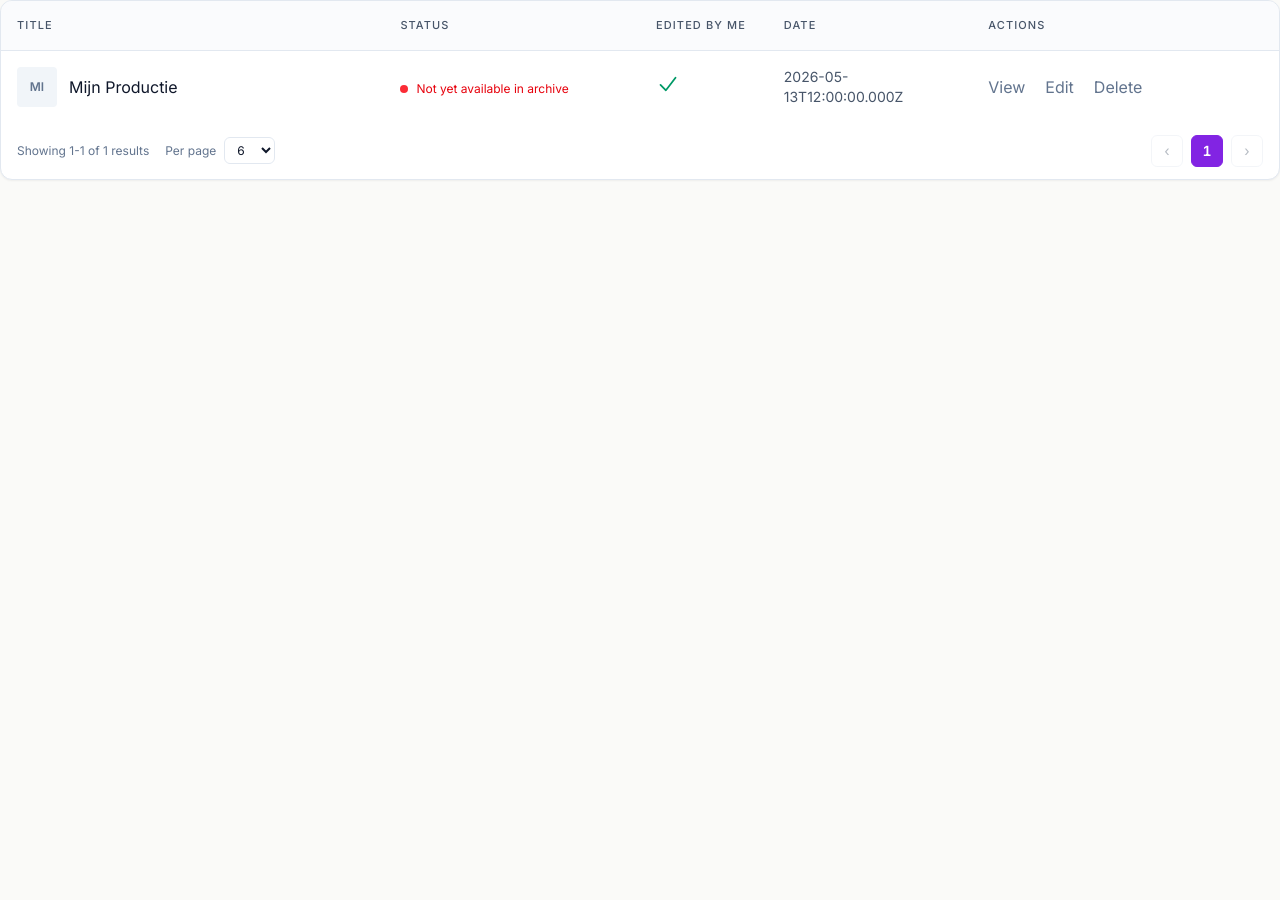
it: DraftsTable › opens delete modal with correct title and message on Delete click
What coordinates should you click on to do the following:
click the button "Delete"
I would click on:
 (1118, 86)
Its box is [1086,66,1150,106].
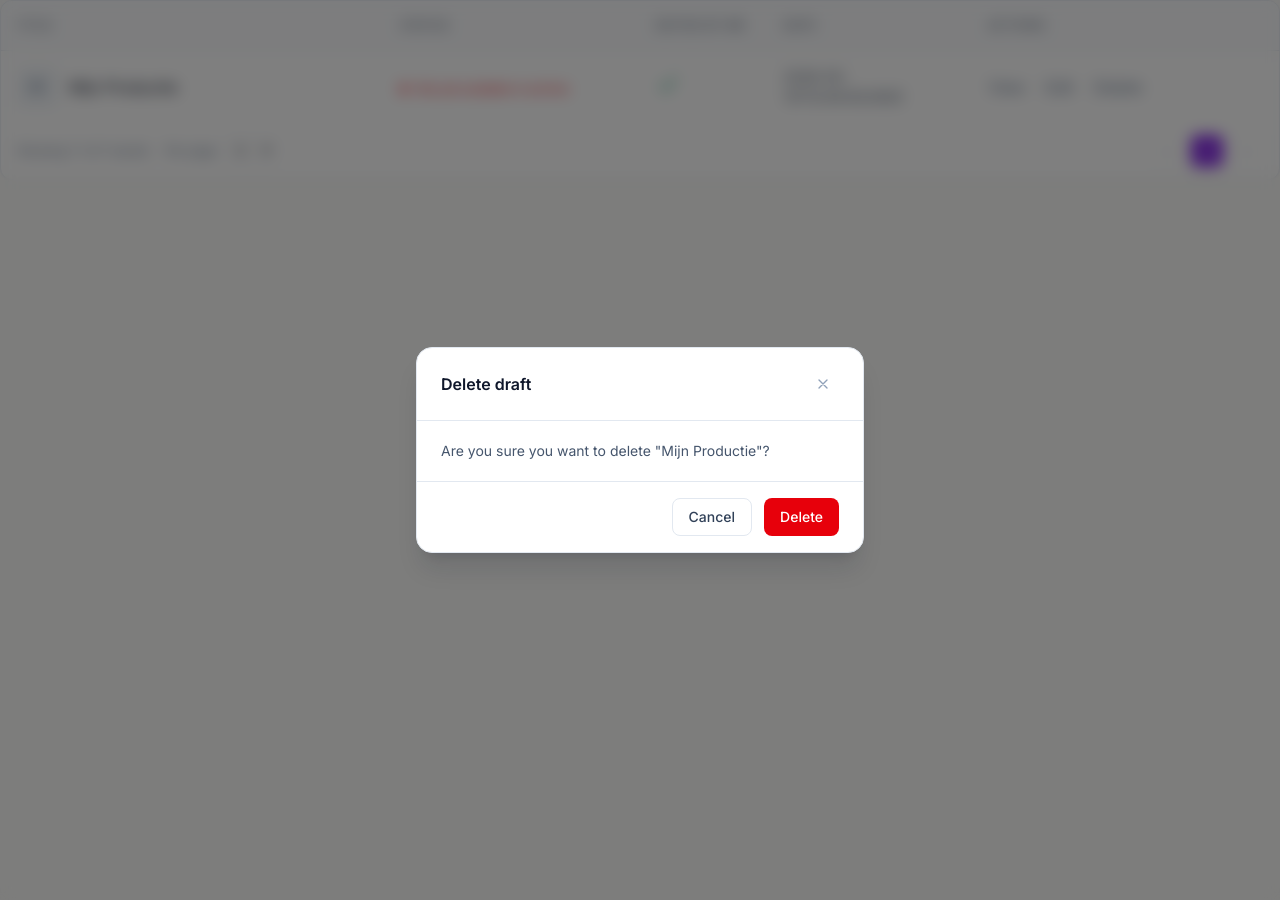
Result: the heading "Delete draft" is shown at [441,372,531,396]
Result: the text "Are you sure you want to delete \"Mijn Productie\"?" is shown at [441,442,770,459]
